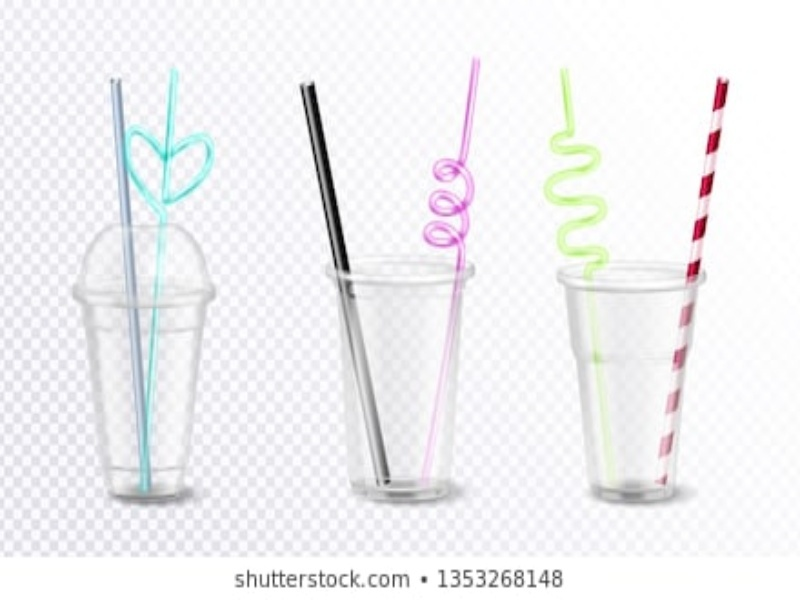plastic-cup: (61, 211, 230, 510), (327, 248, 481, 508), (551, 258, 714, 503)
straw: (296, 76, 406, 491), (541, 54, 636, 495), (650, 70, 734, 493), (131, 62, 211, 493), (413, 48, 491, 489), (107, 73, 159, 495)
